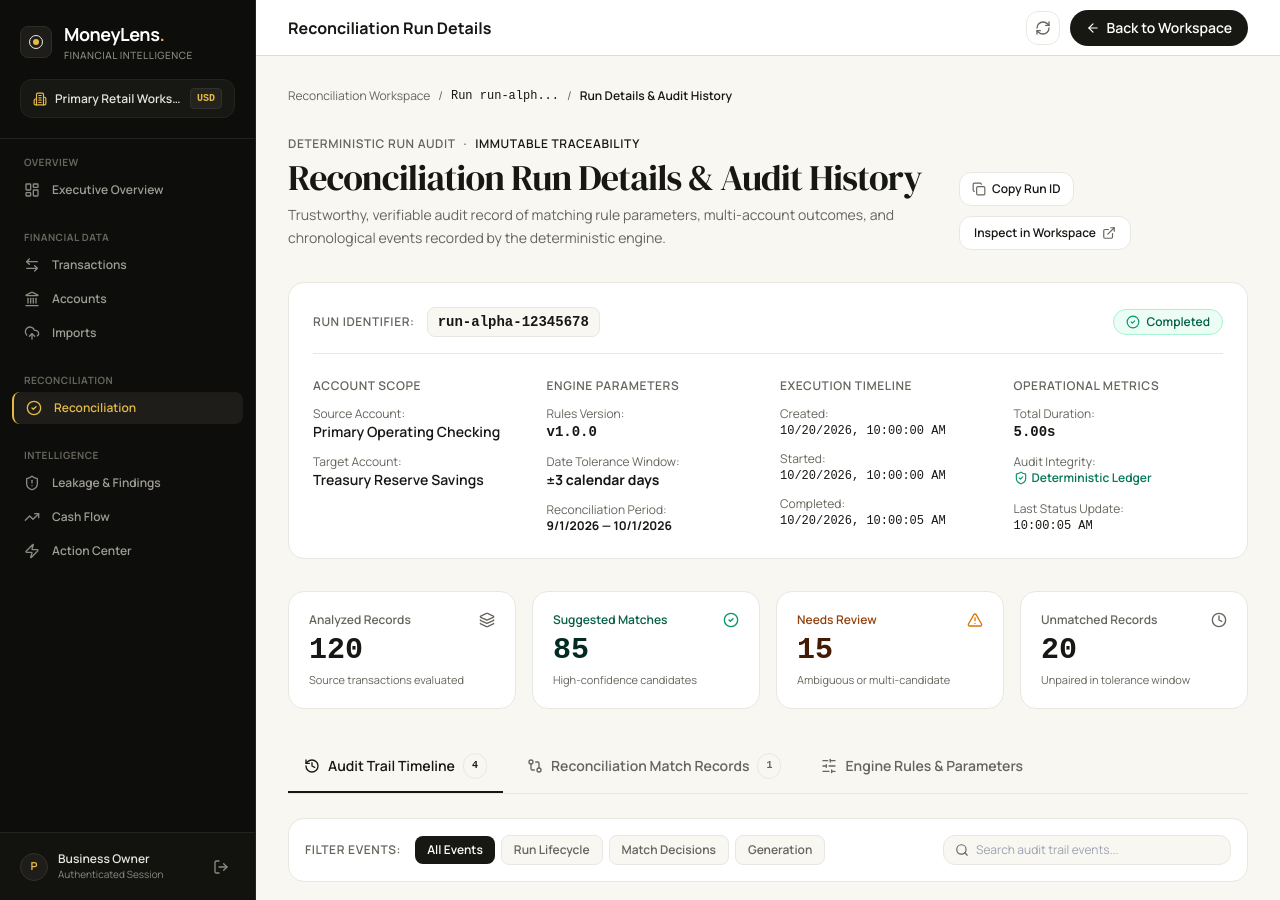
Test: MoneyLens Reconciliation Run Details & Audit History Page Component Suite › switches to Reconciliation Match Records tab and renders candidate table
Click the button "Reconciliation Match Records 1" at (654, 767), box x1=511 y1=741 x2=798 y2=793
(page scrolled)
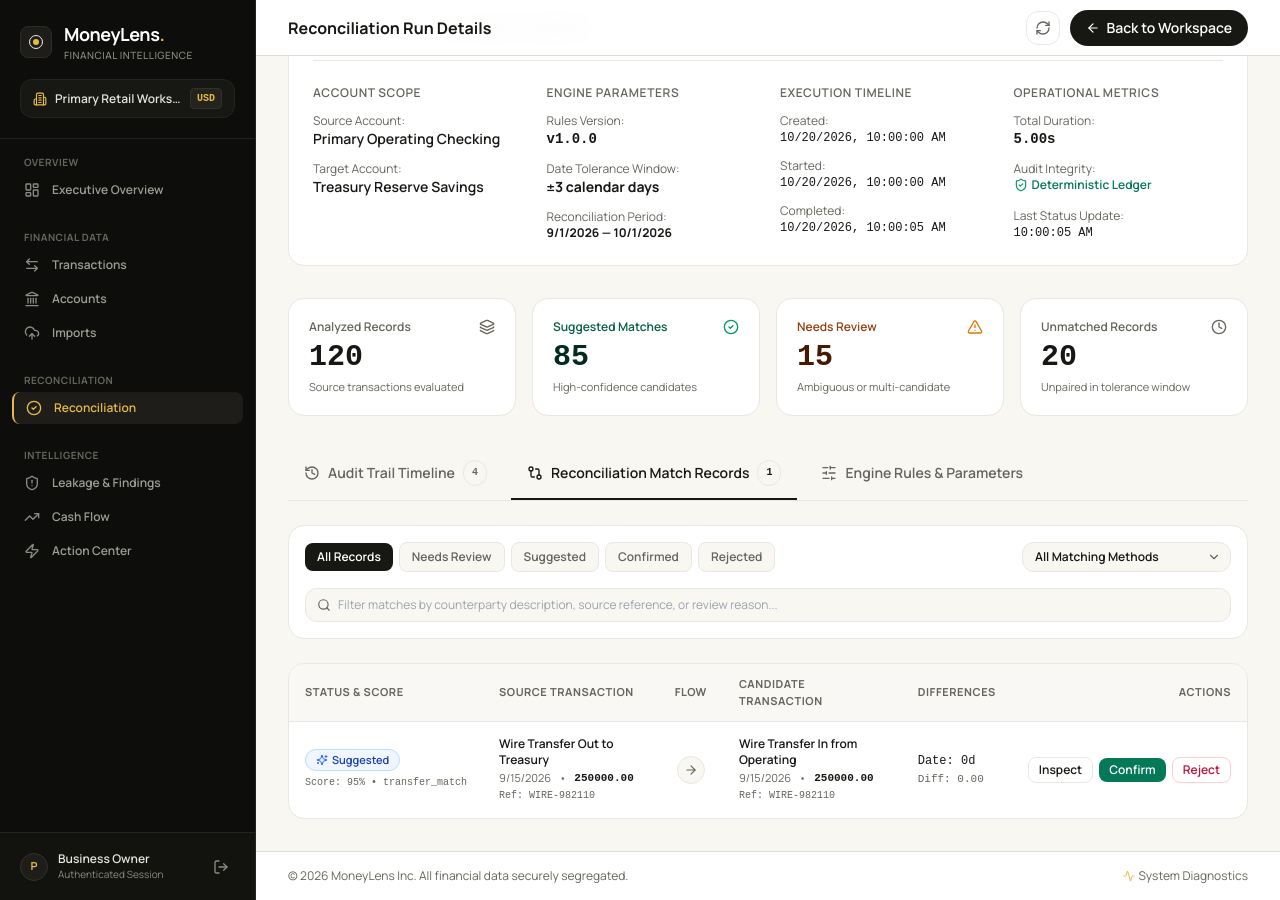
Now the text "Wire Transfer Out to Treasury" is shown, box x1=499 y1=735 x2=614 y2=768
Now the text "Wire Transfer In from Operating" is shown, box x1=739 y1=735 x2=857 y2=768
Now the text "Score: 95% • transfer_match" is shown, box x1=305 y1=775 x2=467 y2=791
